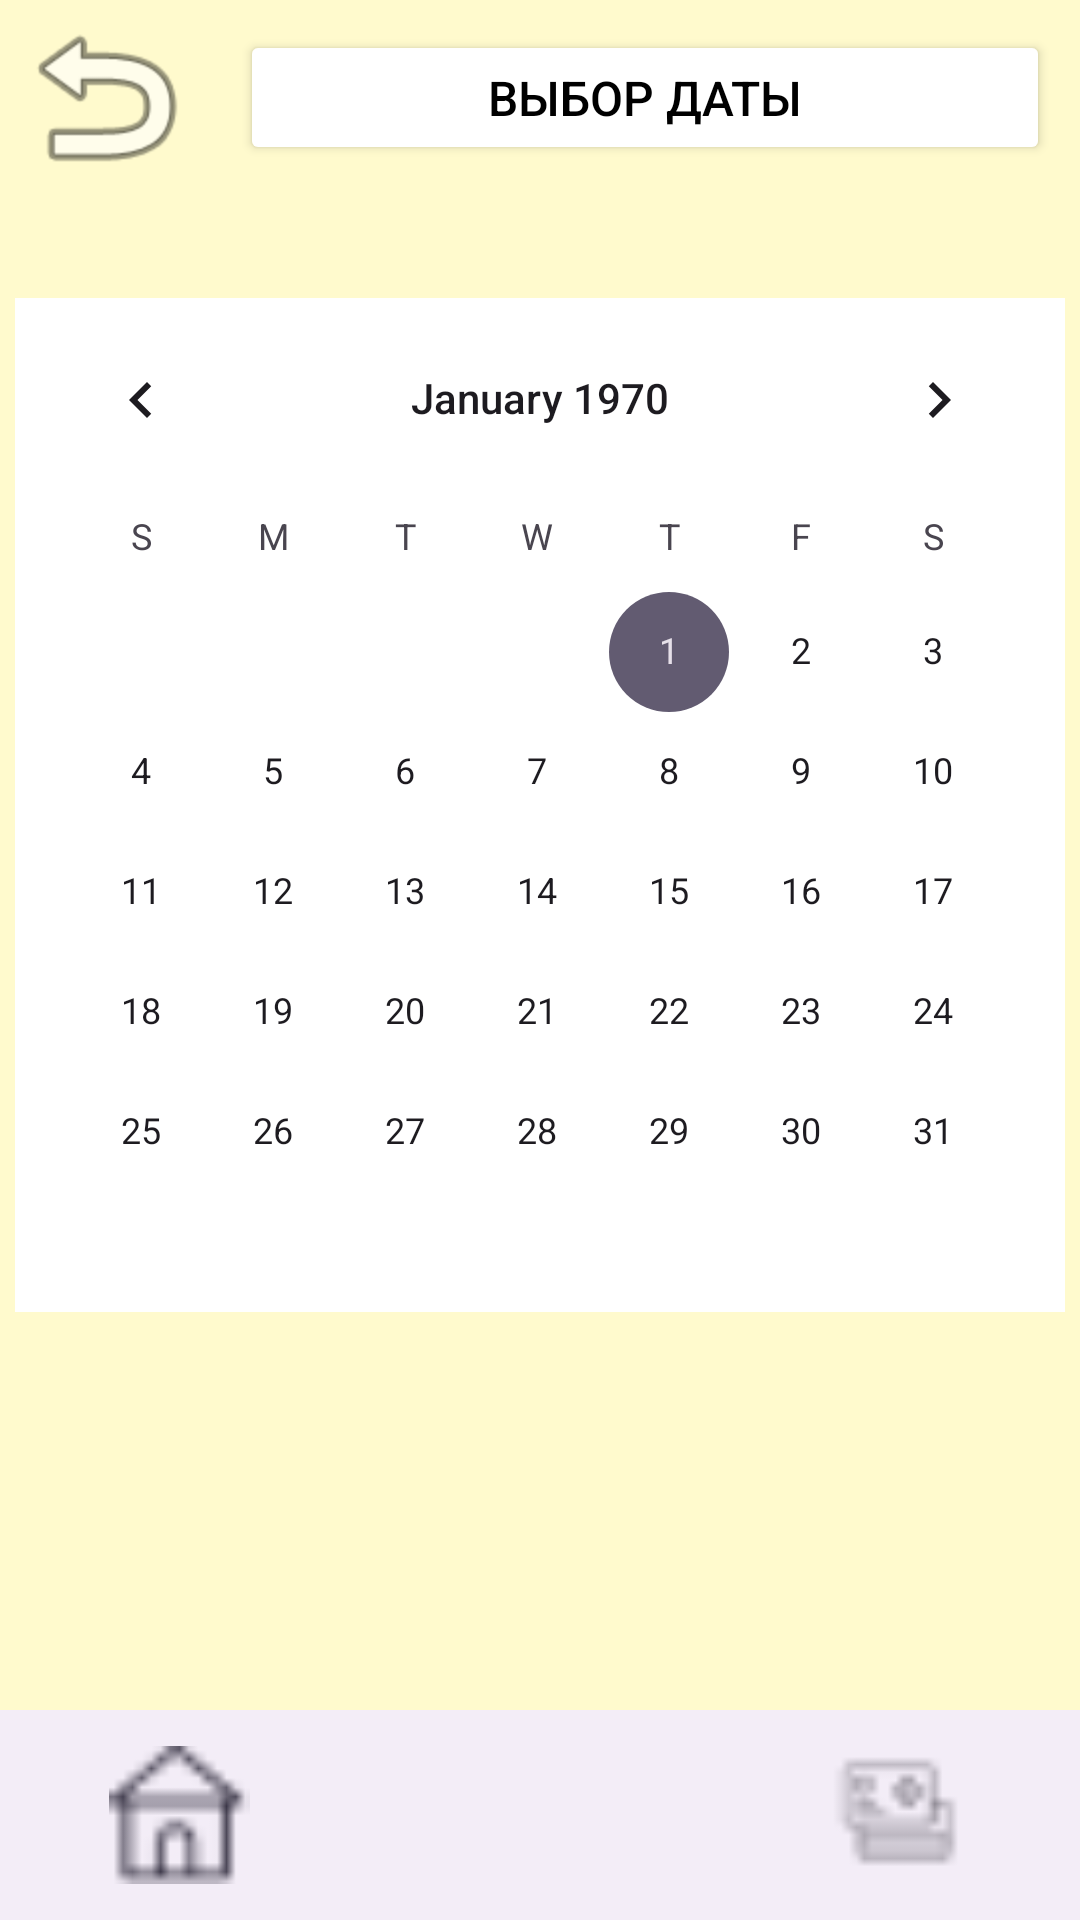

Where to tap for icons on this 1080*1920 app screen, as [x,y]:
revert: [107,98]
